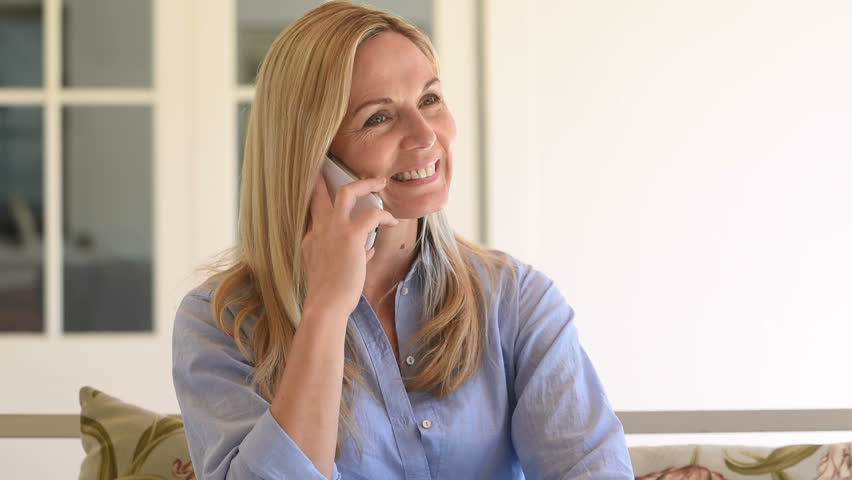phone: (310, 153, 397, 249)
talk: (291, 70, 463, 312)
